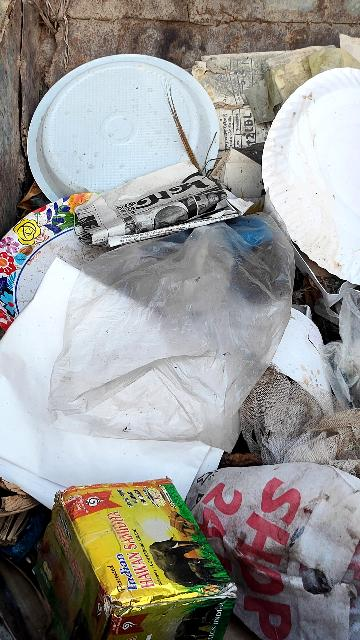polythene: (48, 233, 310, 440)
